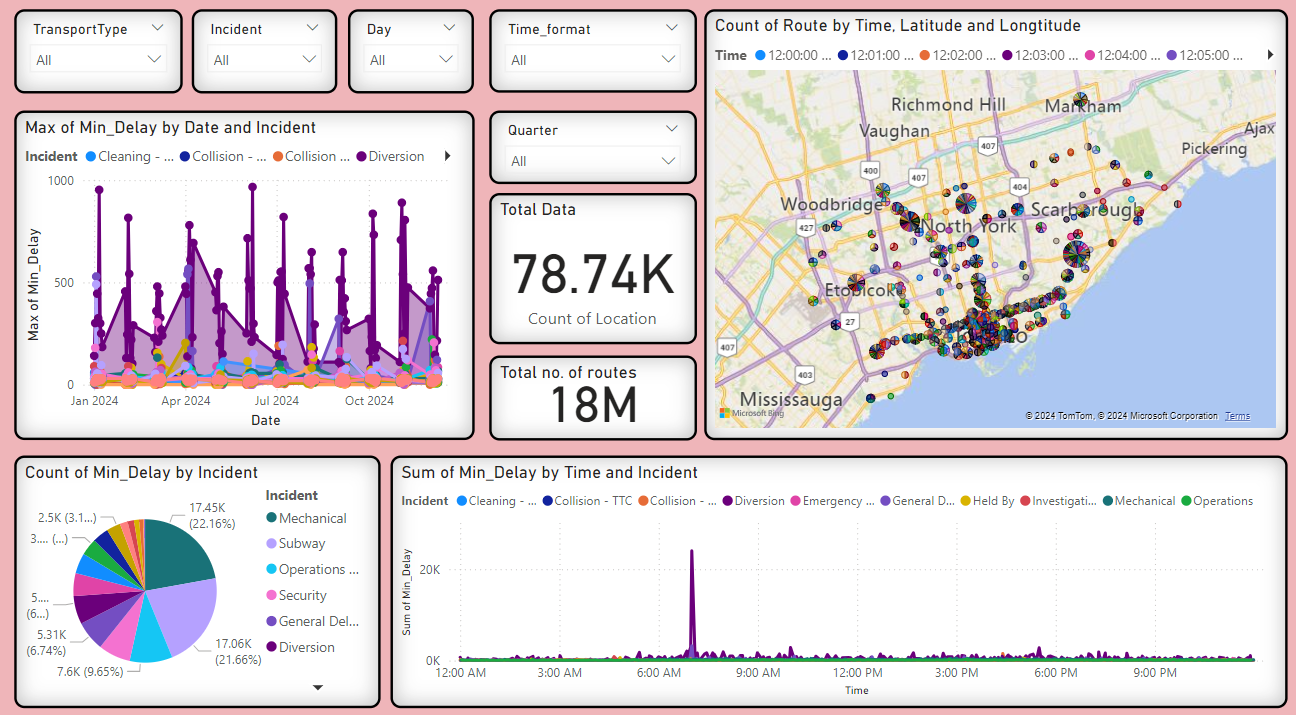

The dashboard page shown, as its layout file describes it:
{"tool":"powerbi","page":{"name":"Incident","canvas":[1280,720],"ordinal":1},"visuals":[{"type":"slicer","fields":{"Values":["combined_ttc.TransportType"]},"box":[20.6,20.6,164.7,82.3],"z":0},{"type":"slicer","fields":{"Values":["combined_ttc.Incident"]},"box":[194.9,20.6,142.7,82.3],"z":1000},{"type":"map","fields":{"Series":["combined_ttc.Time"],"Y":["combined_ttc.Latitude"],"X":["combined_ttc.Longtitude"],"Size":["CountNonNull(combined_ttc.Route)"]},"box":[695.7,20.6,570.8,421.3],"z":2000},{"type":"lineChart","fields":{"Y":["Sum(combined_ttc.Min_Delay)"],"Category":["combined_ttc.Time"],"Series":["combined_ttc.Incident"]},"box":[388.9,457.3,878,247],"z":3000},{"type":"lineChart","fields":{"Y":["Max(combined_ttc.Min_Delay)"],"Category":["combined_ttc.Date"],"Series":["combined_ttc.Incident"]},"box":[20.6,119.4,450.1,322.5],"z":4000},{"type":"slicer","fields":{"Values":["combined_ttc.Day"]},"box":[347.2,20.6,123.5,82.3],"z":5000},{"type":"pieChart","fields":{"Y":["CountNonNull(combined_ttc.Min_Delay)"],"Category":["combined_ttc.Incident"]},"box":[20.6,456.9,358.1,247],"z":6000},{"type":"card","title":"Total no. of routes","fields":{"Values":["Sum(combined_ttc.Route)"]},"box":[485.5,359.5,203,83.2],"z":7000},{"type":"card","title":"Total Data","fields":{"Values":["CountNonNull(combined_ttc.Route)"]},"box":[485.5,200.5,203,148],"z":8000},{"type":"slicer","fields":{"Values":["combined_ttc.Time_format"]},"box":[485.5,20.8,203,81.9],"z":9000},{"type":"slicer","fields":{"Values":["combined_ttc.Date.Variation.Date Hierarchy.Quarter"]},"box":[485.5,119.8,203,72.1],"z":10000}]}

Visuals, with their boxes in screenshot pixels (x1, y1, x2, y2), scaled from the page's 1280x720 canvas onto the 1296x715 screenshot:
slicer - combined_ttc.TransportType: select_region(21, 20, 188, 102)
slicer - combined_ttc.Incident: select_region(197, 20, 342, 102)
map - combined_ttc.Time x combined_ttc.Latitude: select_region(704, 20, 1282, 439)
lineChart - Sum(combined_ttc.Min_Delay) x combined_ttc.Time: select_region(394, 454, 1283, 699)
lineChart - Max(combined_ttc.Min_Delay) x combined_ttc.Date: select_region(21, 119, 477, 439)
slicer - combined_ttc.Day: select_region(352, 20, 477, 102)
pieChart - CountNonNull(combined_ttc.Min_Delay) x combined_ttc.Incident: select_region(21, 454, 383, 699)
"Total no. of routes" card: select_region(492, 357, 697, 440)
"Total Data" card: select_region(492, 199, 697, 346)
slicer - combined_ttc.Time_format: select_region(492, 21, 697, 102)
slicer - combined_ttc.Date.Variation.Date Hierarchy.Quarter: select_region(492, 119, 697, 191)
